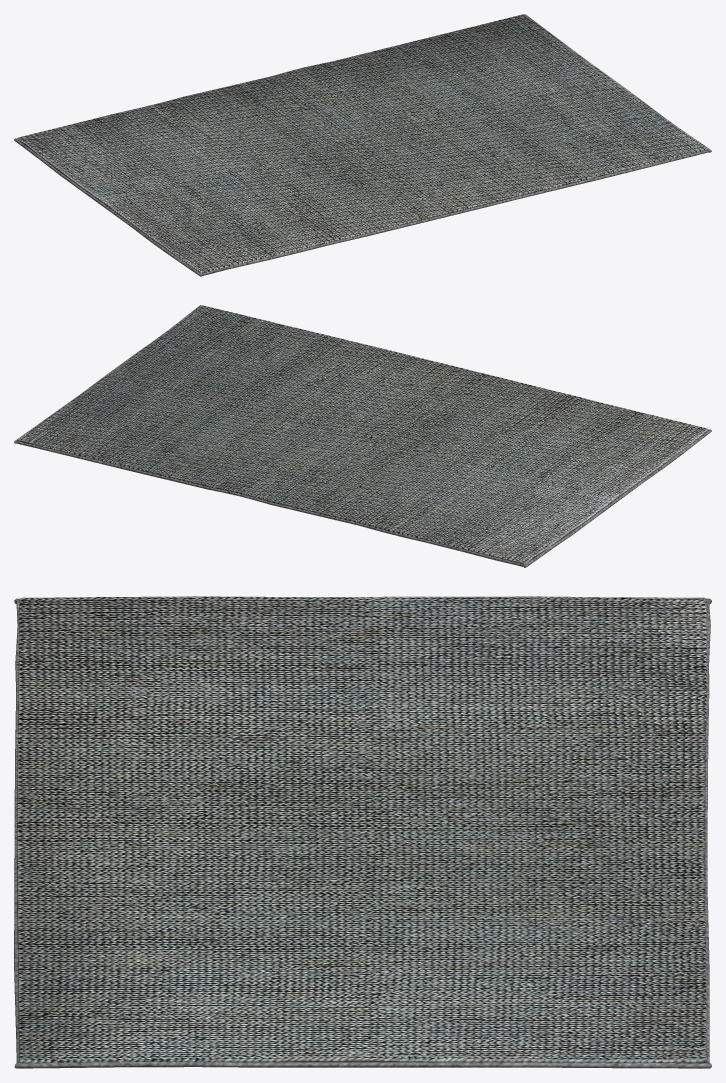
File: B0732GFWJF.glb
3 views of the same model, one above another, from view 1: azimuth 30°, elevation 25°; view 2: azimuth 150°, elevation 25°; view 3: azimuth 270°, elevation 25° (orthographic). The views are drawn at different scales.
Visible parts, largest first — view 1: RootNode; view 2: RootNode; view 3: RootNode.
Boxes of the visible parts, x1,y1,x2,y2 form: RootNode: (14,14,711,276); RootNode: (14,305,711,567); RootNode: (14,596,711,1068).
Bounding box in the file's own units: 2.44 × 0.0215 × 1.54.
Materials: 1 (1 with a texture image).
